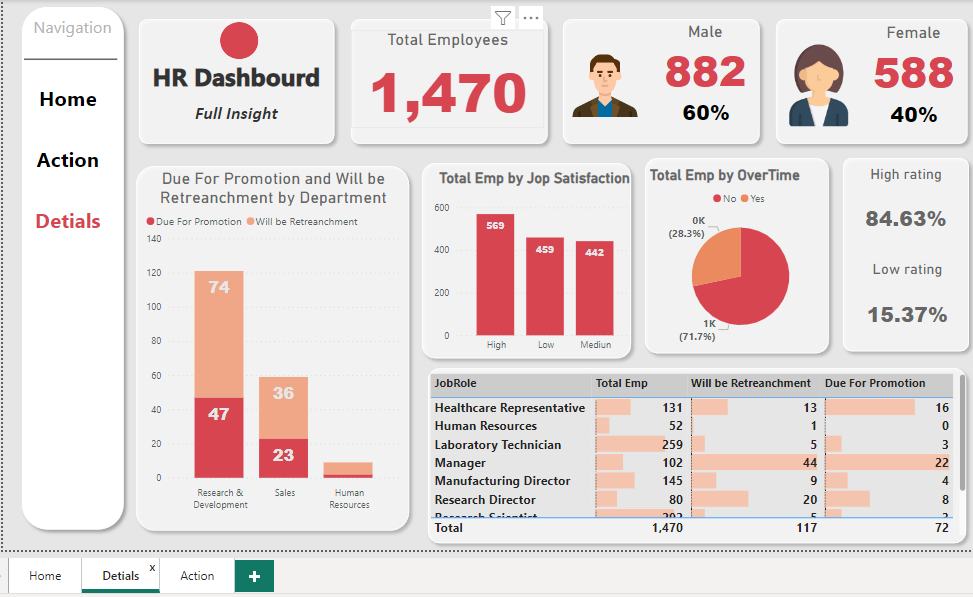

What the dashboard file says about the page in this screenshot:
{"tool":"powerbi","page":{"name":"Detials","canvas":[1280,720],"ordinal":1},"visuals":[{"type":"shape","box":[15.1,0,151.2,702.2],"z":0},{"type":"shape","box":[169.2,15.2,273.8,181.4],"z":1000},{"type":"shape","box":[446.8,15.1,275.5,181.4],"z":2000},{"type":"shape","box":[724,15.1,275.5,181.4],"z":3000},{"type":"shape","box":[1002.4,15.2,268.8,181.4],"z":4000},{"type":"shape","box":[539.5,203.7,291.8,273.9],"z":5000},{"type":"shape","box":[547.8,472.1,722.6,247.7],"z":6000},{"type":"shape","box":[1090.1,198.2,183.1,271.1],"z":7000},{"type":"shape","box":[831.3,198.2,258.8,273.9],"z":8000},{"type":"textbox","box":[184.8,72.2,241.9,55.4],"z":9000},{"type":"textbox","box":[184.8,127.7,241.9,55.4],"z":10000},{"type":"shape","box":[283.9,28.6,50.4,48.7],"z":11000},{"type":"card","title":"Total Employees","fields":{"Values":["All Measures.Total Emp"]},"box":[455.2,38.6,253.6,129.3],"z":12000},{"type":"card","title":"Male","fields":{"Values":["All Measures.Male"]},"box":[851.7,28.6,134.4,97.4],"z":13000},{"type":"card","title":"Male","fields":{"Values":["All Measures.% Male"]},"box":[853.3,109.2,134.4,77.3],"z":14000},{"type":"card","title":"Female","fields":{"Values":["All Measures.Female"]},"box":[1125.5,30.2,132.7,97.4],"z":15000},{"type":"card","title":"Male","fields":{"Values":["All Measures.% Female"]},"box":[1125.4,110.8,134.4,77.3],"z":16000},{"type":"card","title":"High rating","fields":{"Values":["All Measures.% High Rated"]},"box":[1099.7,216.1,165.2,119.7],"z":17000},{"type":"card","title":"Low rating","fields":{"Values":["All Measures.% Low Rated"]},"box":[1105.2,340,158.3,122.5],"z":18000},{"type":"image","box":[1009.4,38.9,116.6,144],"z":19000},{"type":"image","box":[734.4,33.1,106.6,152.6],"z":20000},{"type":"actionButton","box":[35.8,99.1,99.1,56.4],"z":21000},{"type":"actionButton","box":[35.8,183.1,99.1,48.2],"z":22000},{"type":"actionButton","box":[35.8,264.3,99.1,46.8],"z":23000},{"type":"shape","box":[27.5,70.2,122.5,13.8],"z":24000},{"type":"textbox","box":[23.4,15.1,134.9,49.5],"z":28000},{"type":"shape","box":[165.2,207.8,375.7,495.5],"z":29000},{"type":"columnChart","fields":{"Category":["HR Analytics Data.Department"],"Y":["All Measures.Due For Promotion","All Measures.Will be Retreanchment"]},"box":[181.7,221.6,344.1,455.6],"z":30000},{"type":"clusteredColumnChart","fields":{"Category":["HR Analytics Data.Jop Satisfaction"],"Y":["All Measures.Total Emp"]},"box":[558.8,221.6,273.9,247.7],"z":31000},{"type":"pieChart","fields":{"Category":["HR Analytics Data.OverTime"],"Y":["All Measures.Total Emp"]},"box":[842.3,217.5,247.7,238.1],"z":32000},{"type":"tableEx","fields":{"Values":["HR Analytics Data.JobRole","All Measures.Total Emp","All Measures.Will be Retreanchment","All Measures.Due For Promotion"]},"box":[553.3,484.5,711.6,221.6],"z":33000}]}

Visuals, with their boxes on the page's 1280x720 design canvas (x1, y1, x2, y2). These are canvas units, not pixel positions in the 973x597 screenshot, which may show the page scaled, cropped or inside an application window:
shape: {"left": 15, "top": 0, "right": 166, "bottom": 702}
shape: {"left": 169, "top": 15, "right": 443, "bottom": 197}
shape: {"left": 447, "top": 15, "right": 722, "bottom": 196}
shape: {"left": 724, "top": 15, "right": 1000, "bottom": 196}
shape: {"left": 1002, "top": 15, "right": 1271, "bottom": 197}
shape: {"left": 540, "top": 204, "right": 831, "bottom": 478}
shape: {"left": 548, "top": 472, "right": 1270, "bottom": 720}
shape: {"left": 1090, "top": 198, "right": 1273, "bottom": 469}
shape: {"left": 831, "top": 198, "right": 1090, "bottom": 472}
textbox: {"left": 185, "top": 72, "right": 427, "bottom": 128}
textbox: {"left": 185, "top": 128, "right": 427, "bottom": 183}
shape: {"left": 284, "top": 29, "right": 334, "bottom": 77}
"Total Employees" card: {"left": 455, "top": 39, "right": 709, "bottom": 168}
"Male" card: {"left": 852, "top": 29, "right": 986, "bottom": 126}
"Male" card: {"left": 853, "top": 109, "right": 988, "bottom": 186}
"Female" card: {"left": 1126, "top": 30, "right": 1258, "bottom": 128}
"Male" card: {"left": 1125, "top": 111, "right": 1260, "bottom": 188}
"High rating" card: {"left": 1100, "top": 216, "right": 1265, "bottom": 336}
"Low rating" card: {"left": 1105, "top": 340, "right": 1264, "bottom": 462}
image: {"left": 1009, "top": 39, "right": 1126, "bottom": 183}
image: {"left": 734, "top": 33, "right": 841, "bottom": 186}
actionButton: {"left": 36, "top": 99, "right": 135, "bottom": 156}
actionButton: {"left": 36, "top": 183, "right": 135, "bottom": 231}
actionButton: {"left": 36, "top": 264, "right": 135, "bottom": 311}
shape: {"left": 28, "top": 70, "right": 150, "bottom": 84}
textbox: {"left": 23, "top": 15, "right": 158, "bottom": 65}
shape: {"left": 165, "top": 208, "right": 541, "bottom": 703}
columnChart - HR Analytics Data.Department x All Measures.Due For Promotion: {"left": 182, "top": 222, "right": 526, "bottom": 677}
clusteredColumnChart - HR Analytics Data.Jop Satisfaction x All Measures.Total Emp: {"left": 559, "top": 222, "right": 833, "bottom": 469}
pieChart - HR Analytics Data.OverTime x All Measures.Total Emp: {"left": 842, "top": 218, "right": 1090, "bottom": 456}
tableEx - HR Analytics Data.JobRole x All Measures.Total Emp: {"left": 553, "top": 484, "right": 1265, "bottom": 706}
